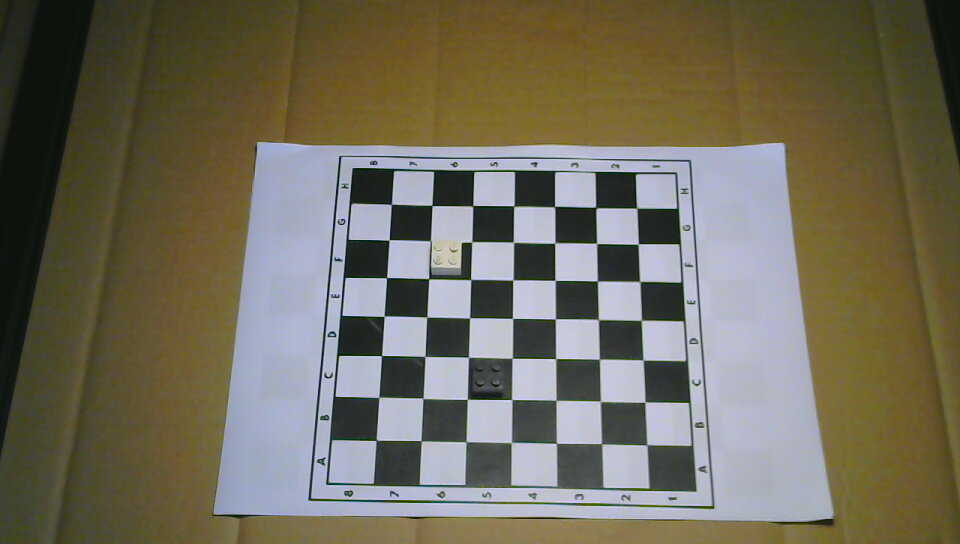bp: (470, 359, 504, 398)
wp: (430, 241, 462, 276)
